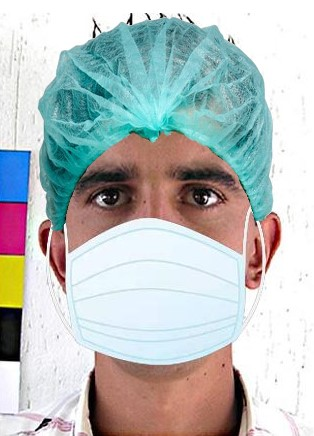with_mask_and_cap: (40, 18, 279, 367)
